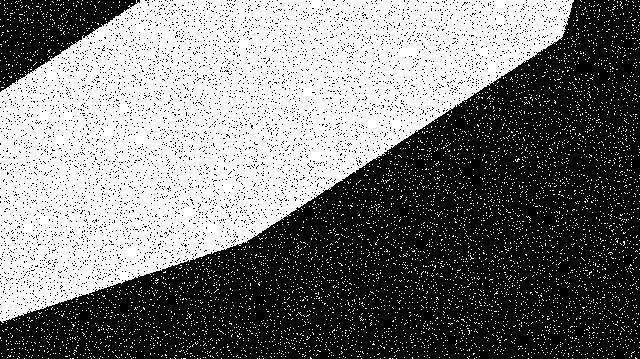pot: (137, 19, 265, 159)
